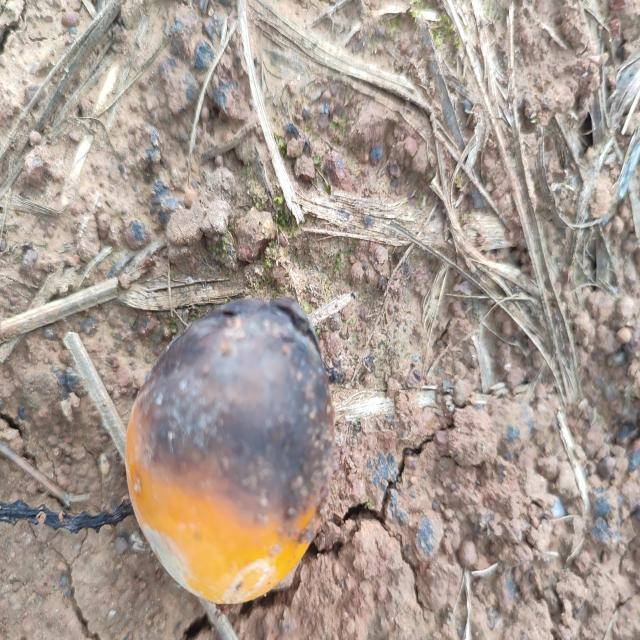damaged: (124, 297, 334, 610)
